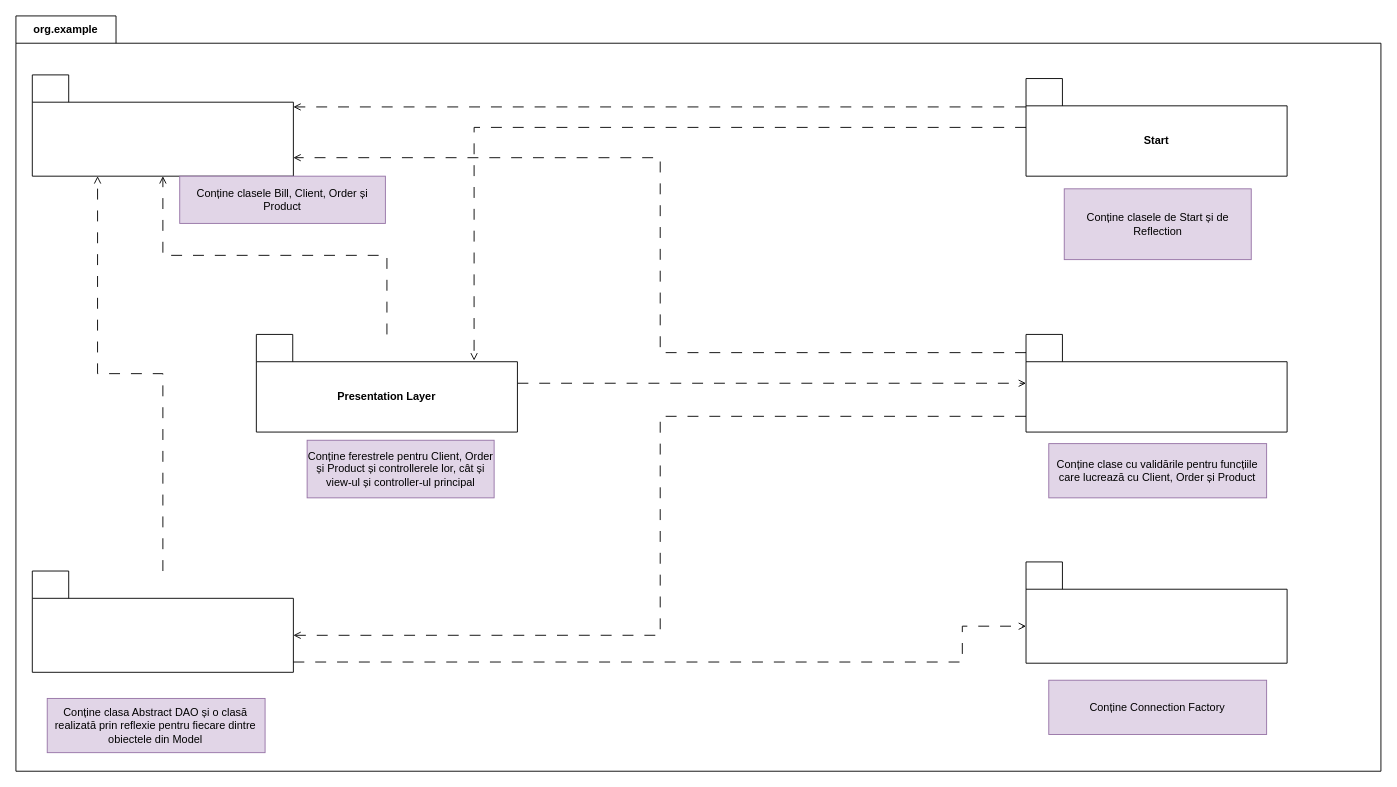
Some shapes in this 1397 by 787 pixel diagram are drawn without their labels. The shapes that lost their labels are listed below. From the top down, each one's centre as x and y in pixels, then its label:
the point at 162,125: Model
the point at 1156,383: Business Logic
the point at 162,621: Data Access
the point at 1156,612: Connection
